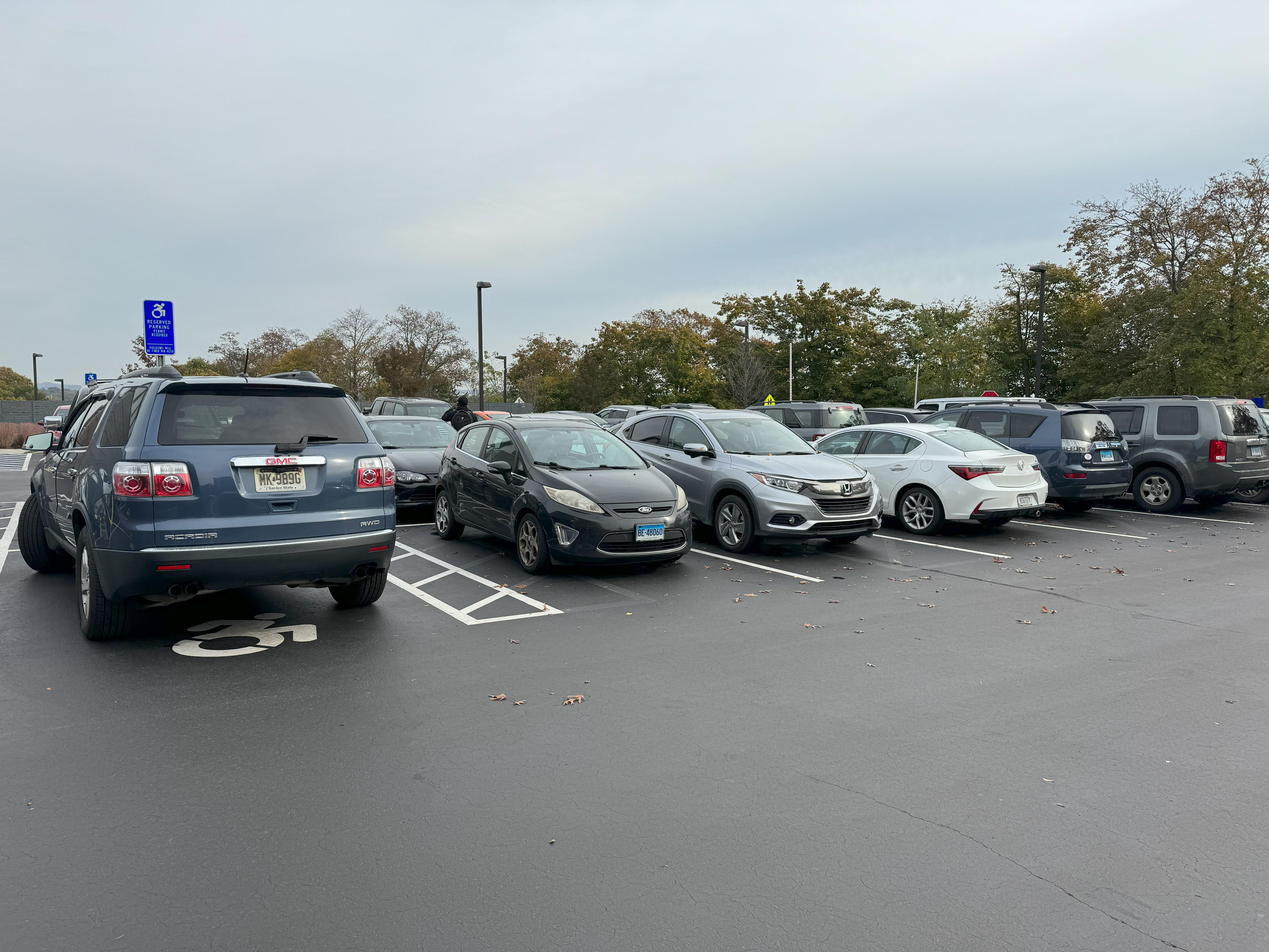occupied: (20, 356, 405, 682), (431, 389, 690, 597), (709, 392, 875, 586), (894, 394, 1051, 584), (1093, 398, 1260, 540)
